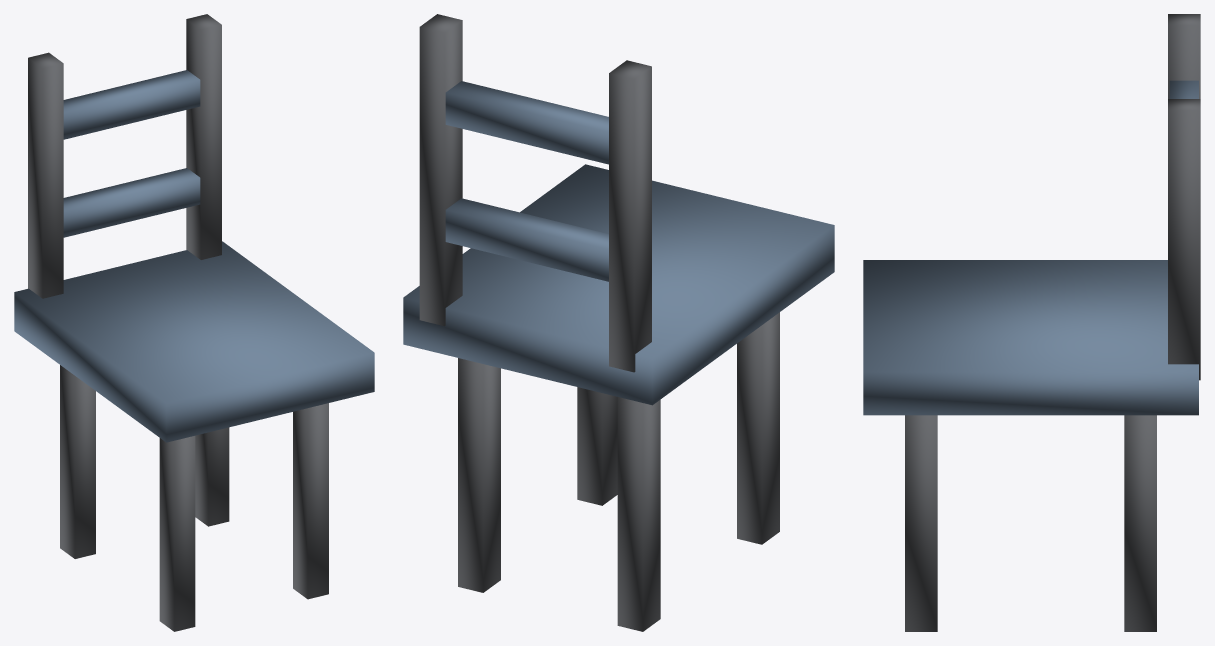
Rendered from waiting_chair__deep.glb.
The picture shows the model from 3 angles, left to right: view 1: azimuth 30°, elevation 25°; view 2: azimuth 150°, elevation 25°; view 3: azimuth 270°, elevation 25°; orthographic projection. The views are drawn at different scales.
Parts seen in each view (by area): view 1: world; view 2: world; view 3: world.
Part boxes in pixels (bbox=[...]): world: bbox=[14, 14, 374, 631]; world: bbox=[403, 14, 834, 631]; world: bbox=[863, 14, 1200, 631].
Bounding box in the file's own units: 0.445 × 0.9782 × 0.5662.
